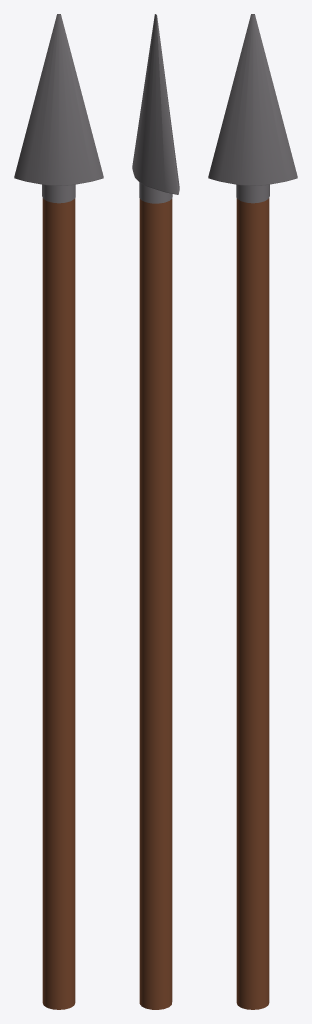
File: Spear.fbx
3 views of the same model, side by side, from view 1: azimuth 90°, elevation 25°; view 2: azimuth 210°, elevation 25°; view 3: azimuth 270°, elevation 25° (orthographic).
Parts seen in each view (by area): view 1: Cylinder; view 2: Cylinder; view 3: Cylinder.
Boxes of the visible parts, x1,y1,x2,y2 form: Cylinder: [14, 14, 103, 1009]; Cylinder: [132, 14, 179, 1009]; Cylinder: [208, 14, 297, 1009].
Bounding box in the file's own units: 40.53 × 1179 × 96.74.
